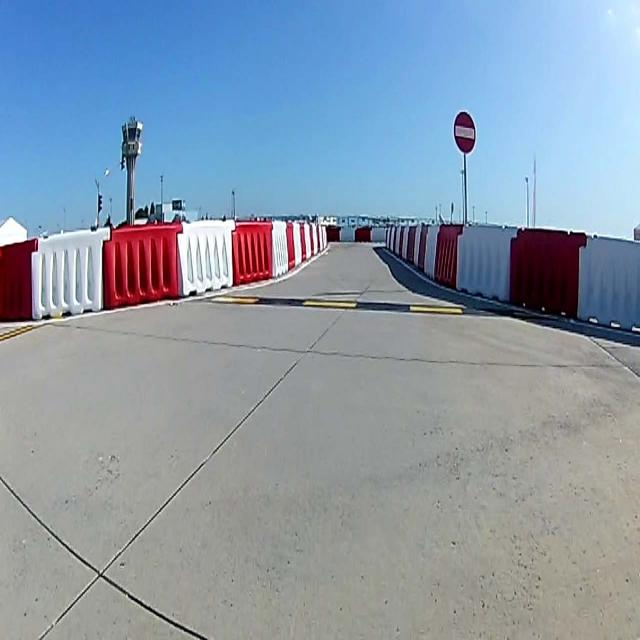girisyok: (453, 109, 477, 155)
